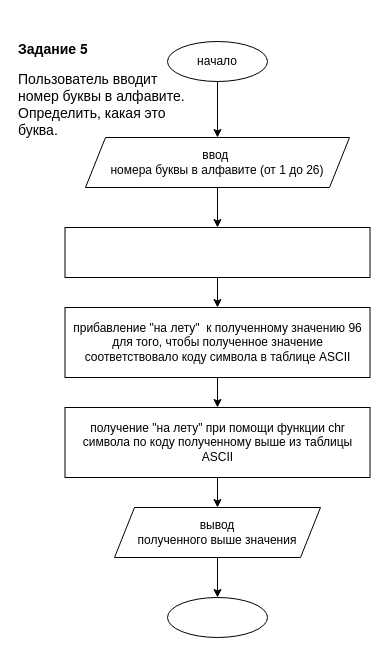
This 387x655 diagram has some shape labels left out. Each missing label, with the centre of its shape:
конец: pixel 217 617
перевод "на лету" введённого значения в тип int: pixel 217 252
